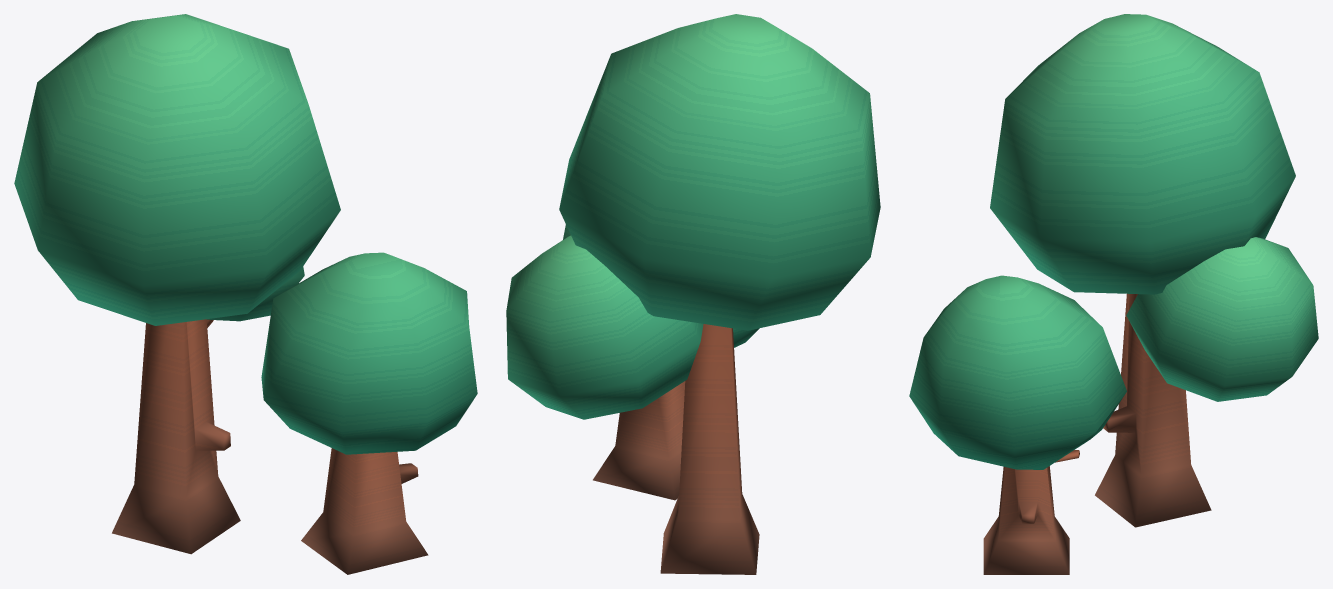
File: tree_spherical_f.glb
3 views of the same model, side by side, from view 1: azimuth 30°, elevation 25°; view 2: azimuth 150°, elevation 25°; view 3: azimuth 270°, elevation 25° (orthographic). The views are drawn at different scales.
Visible parts, largest first — view 1: tree_spherical__Mesh_006; view 2: tree_spherical__Mesh_006; view 3: tree_spherical__Mesh_006.
Boxes of the visible parts, left/top/right/bottom form: tree_spherical__Mesh_006: left=14, top=14, right=477, bottom=574; tree_spherical__Mesh_006: left=506, top=14, right=880, bottom=574; tree_spherical__Mesh_006: left=909, top=14, right=1318, bottom=574.
Size of the model in its own units: 1.31 by 1.76 by 1.38.
1 material, 1 textured.
